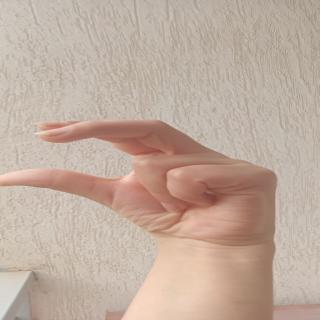DHELL: (0, 106, 287, 239)
